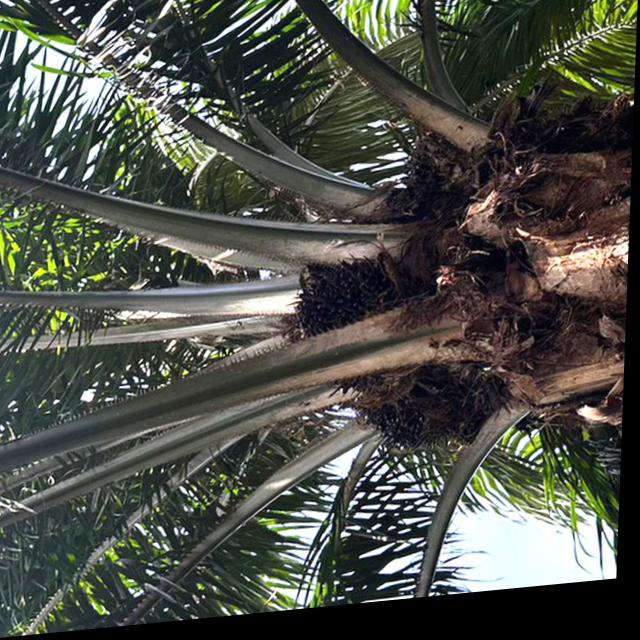unripe: (282, 233, 525, 480), (383, 108, 506, 249)
